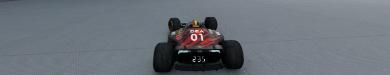Car: (152, 16, 244, 72)
grass: (0, 0, 389, 74)
